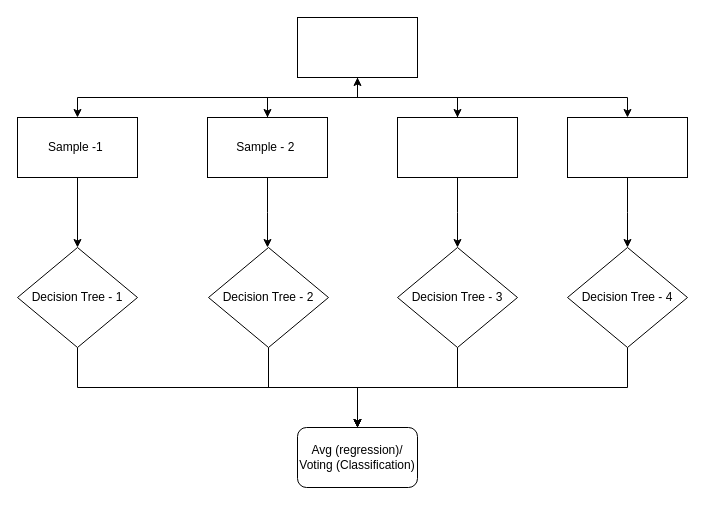
Some shapes in this 705 by 505 pixel diagram are drawn without their labels. The shapes that lost their labels are listed below. From the top down, each one's centre as x and y in pixels, then its label:
At (x=357, y=47): "Original Data".
At (x=457, y=147): "Sample - 3".
At (x=627, y=147): "Sample - 4".
